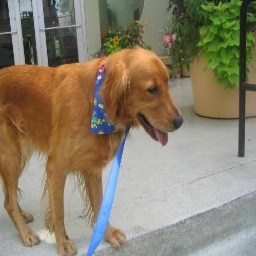dog: (0, 44, 185, 252)
